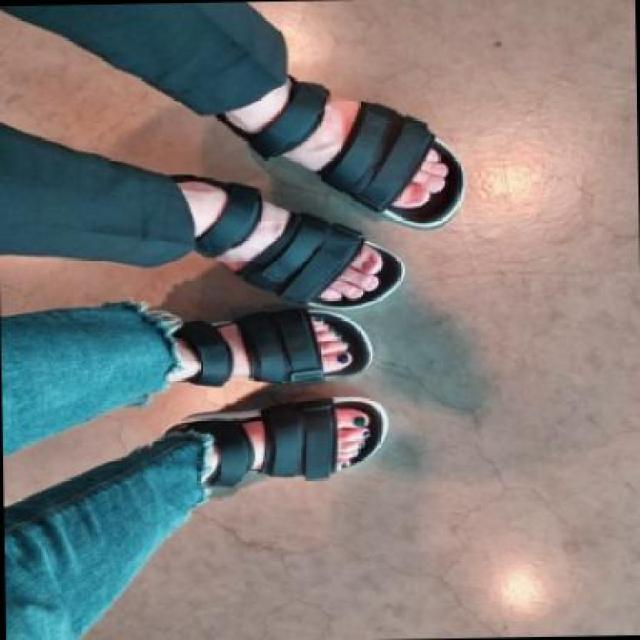Sandals: (248, 60, 475, 221), (138, 398, 401, 503), (141, 306, 382, 393)
